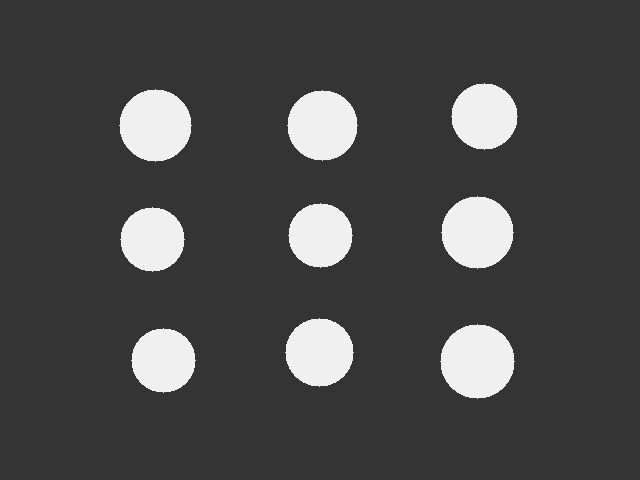hole: (440, 324, 514, 398), (119, 89, 191, 161), (441, 196, 513, 268), (287, 90, 357, 160), (285, 318, 353, 386), (451, 83, 517, 149), (120, 207, 184, 271), (288, 203, 352, 267), (131, 328, 195, 392)
